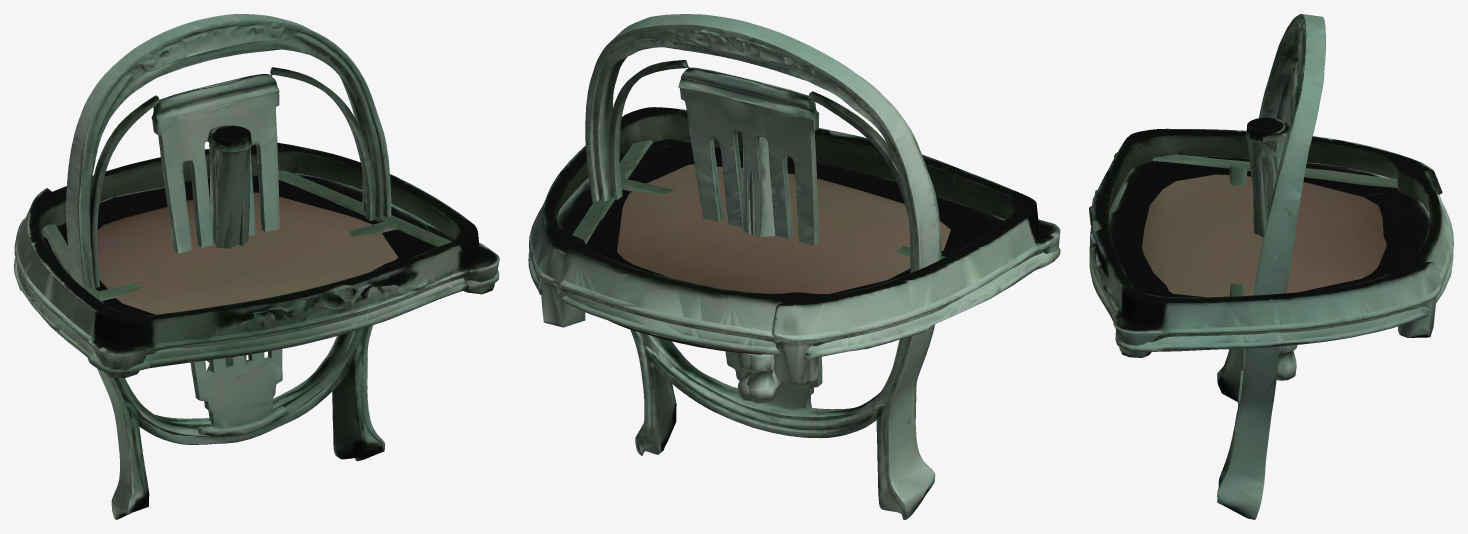
3 renders of one model, left to right at view 1: azimuth 30°, elevation 25°; view 2: azimuth 150°, elevation 25°; view 3: azimuth 270°, elevation 25°, orthographic. The views are drawn at different scales.
Parts seen in each view (by area): view 1: root.0.2, root.0.1, root.2, root.1, root.0.0, root.3, root.5, root.7, root.6; view 2: root.0.2, root.0.1, root.1, root.2, root.0.0, root.3, root.5, root.4, root.7, root.6; view 3: root.0.2, root.1, root.0.1, root.0.0, root.3, root.7, root.2, root.5, root.4, root.6.
Boxes of the visible parts, x1,y1,x2,y2 form: root.0.2: (14, 142, 499, 377); root.0.1: (66, 14, 391, 519); root.2: (90, 67, 375, 444); root.1: (97, 192, 398, 368); root.0.0: (14, 173, 499, 373); root.3: (41, 170, 451, 345); root.5: (206, 125, 252, 371); root.7: (211, 125, 250, 246); root.6: (207, 125, 246, 360); root.0.2: (529, 107, 1060, 384); root.0.1: (585, 14, 941, 519); root.1: (608, 164, 950, 354); root.2: (608, 60, 908, 408); root.0.0: (528, 139, 1060, 359); root.3: (572, 140, 1039, 258); root.5: (747, 156, 787, 403); root.4: (749, 137, 782, 390); root.7: (736, 188, 766, 400); root.6: (742, 141, 760, 235); root.0.2: (1089, 128, 1453, 357); root.1: (1142, 174, 1386, 351); root.0.1: (1217, 14, 1325, 519); root.0.0: (1089, 156, 1453, 351); root.3: (1152, 154, 1397, 296); root.7: (1245, 117, 1297, 380); root.2: (1237, 58, 1298, 406); root.5: (1245, 118, 1296, 363); root.4: (1253, 124, 1289, 234); root.6: (1253, 121, 1289, 227).
Bounding box in the file's own units: 17516 × 18655 × 14415.
Materials: 1 (1 with a texture image).
